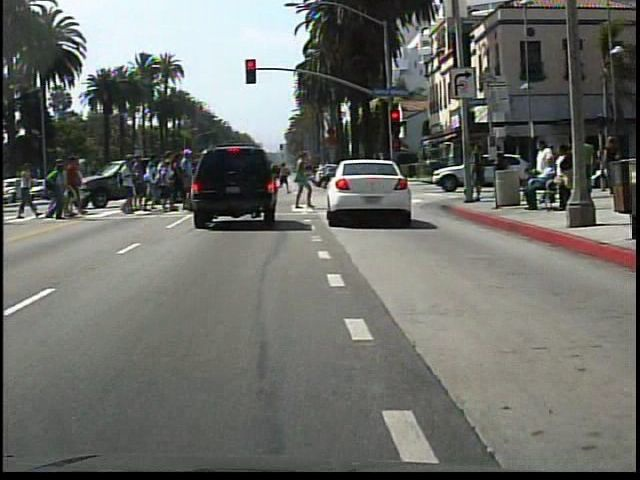person: (520, 155, 562, 216), (285, 147, 316, 213), (549, 140, 575, 210)
